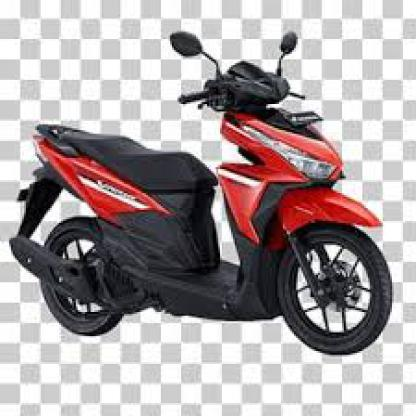Motorcycle: (9, 30, 390, 360)
